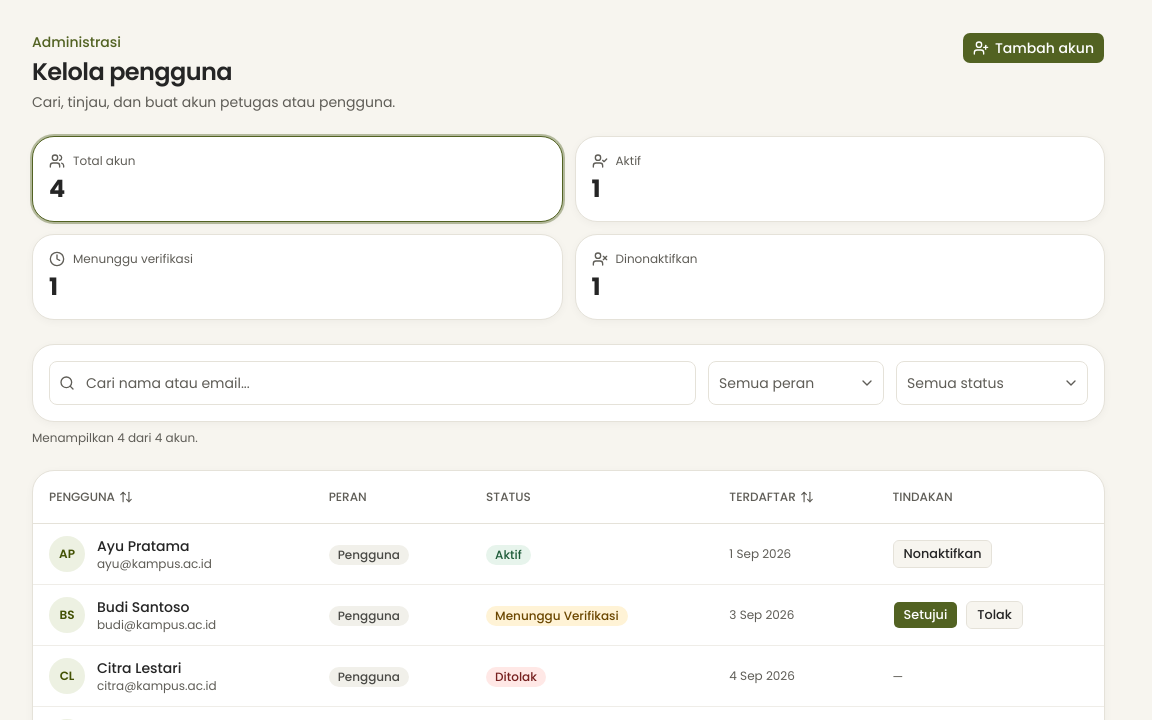
Test: AdminUsers (kelola akun) › memfilter daftar dan menampilkan empty state saat tidak cocok
Type "tidak-ada-nama" into the search field labelled "Cari nama atau email" at (372, 383), box [49,361,696,405]
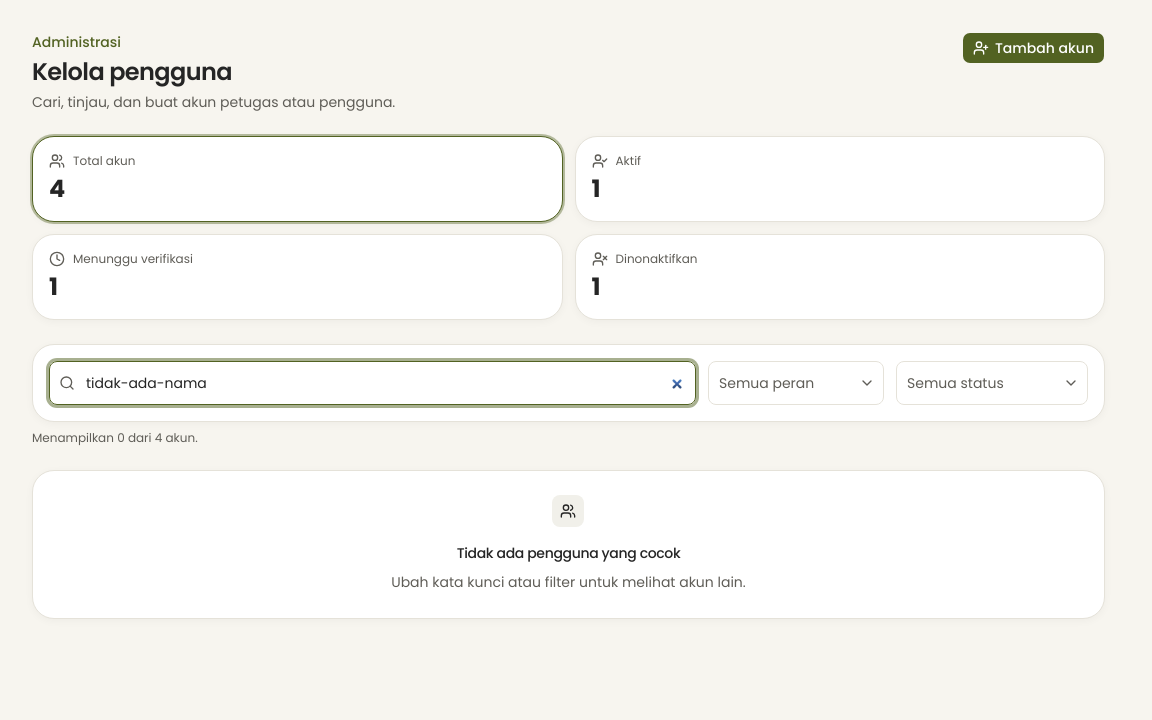
Now the text "Menampilkan 0 dari 4 akun." is shown, box [32,429,198,446]
Now the text "Tidak ada pengguna yang cocok" is shown, box [457,543,680,563]
Now the text "Ayu Pratama" is gone
